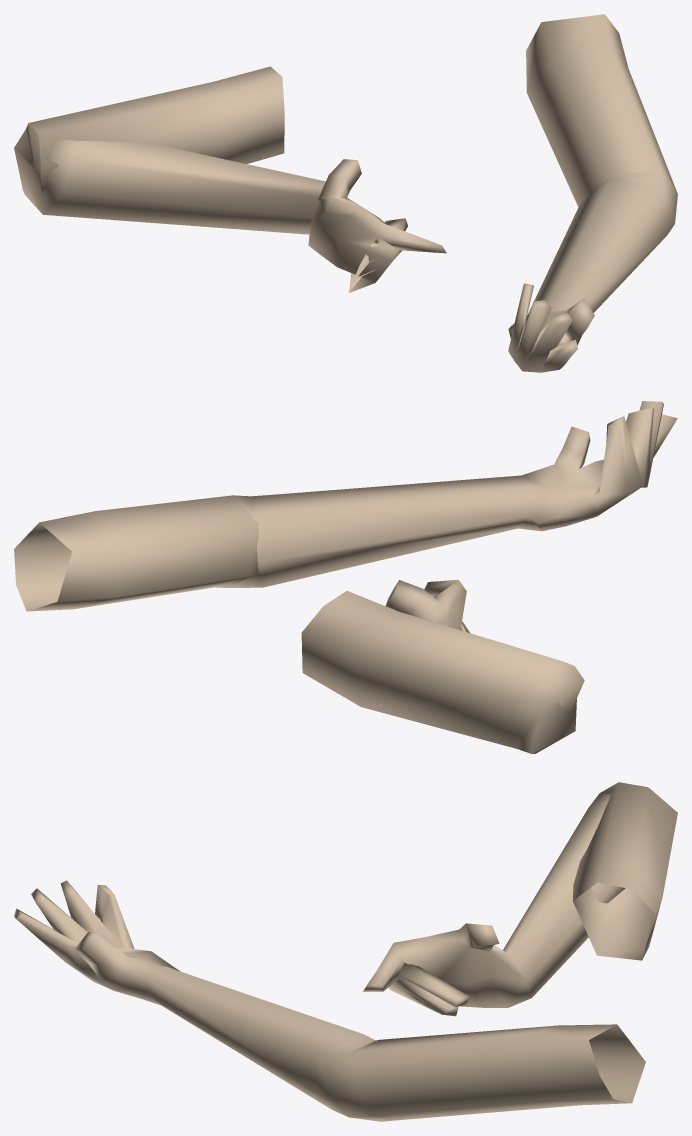
Rendered from arms.fbx.
3 views of the same model, one above another, from view 1: azimuth 30°, elevation 25°; view 2: azimuth 150°, elevation 25°; view 3: azimuth 270°, elevation 25° (orthographic). The views are drawn at different scales.
Parts seen in each view (by area): view 1: Body; view 2: Body; view 3: Body.
Boxes of the visible parts, left/top/right/bottom form: Body: left=14, top=14, right=677, bottom=372; Body: left=14, top=401, right=677, bottom=753; Body: left=14, top=782, right=677, bottom=1121.
Bounding box in the file's own units: 13.93 × 3.18 × 14.6.
